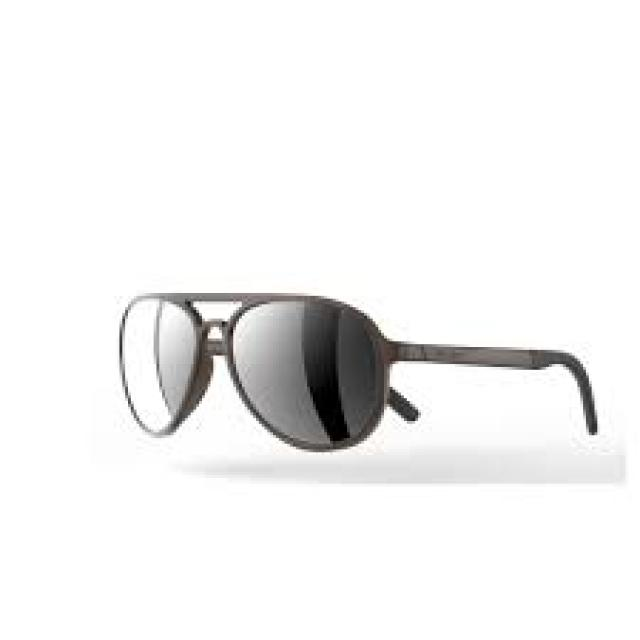sunglasses: (104, 275, 434, 462)
